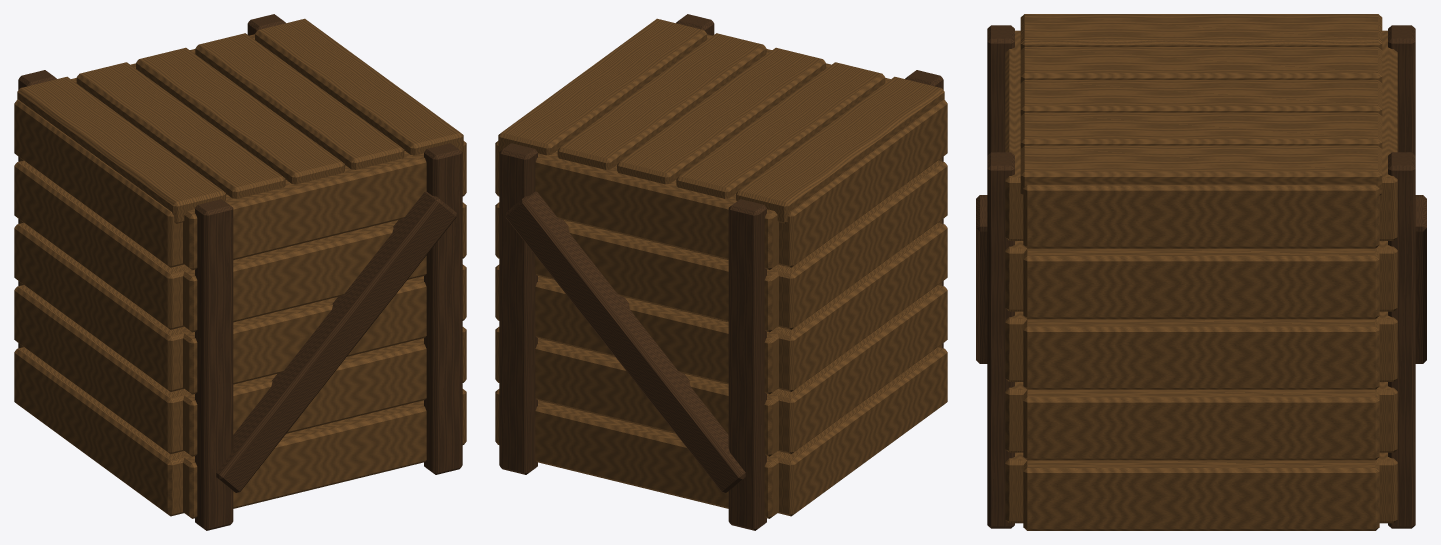
Rendered from crate.glb.
The picture shows the model from 3 angles, left to right: view 1: azimuth 30°, elevation 25°; view 2: azimuth 150°, elevation 25°; view 3: azimuth 270°, elevation 25°; orthographic projection. The views are drawn at different scales.
Visible parts, largest first — view 1: crate; view 2: crate; view 3: crate.
Part boxes in pixels (x1,y1,x2,y2): crate: (14,14,466,530); crate: (495,14,947,530); crate: (976,14,1426,530).
Bounding box in the file's own units: 0.705 × 0.725 × 0.81.
Materials: 2 (2 with a texture image).
